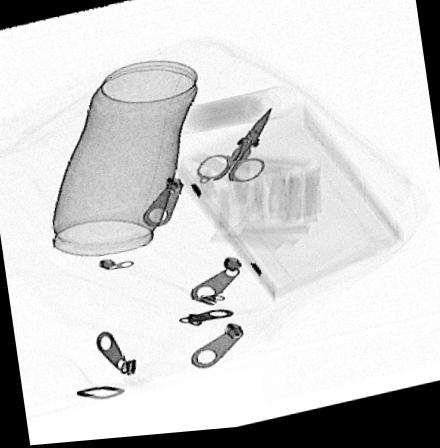Scissors: (194, 111, 271, 187)
